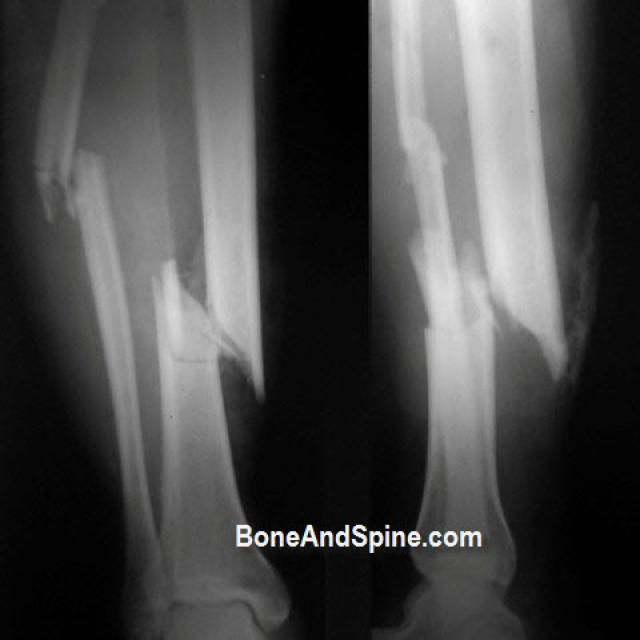fracture: (389, 182, 612, 449), (128, 226, 334, 427)
